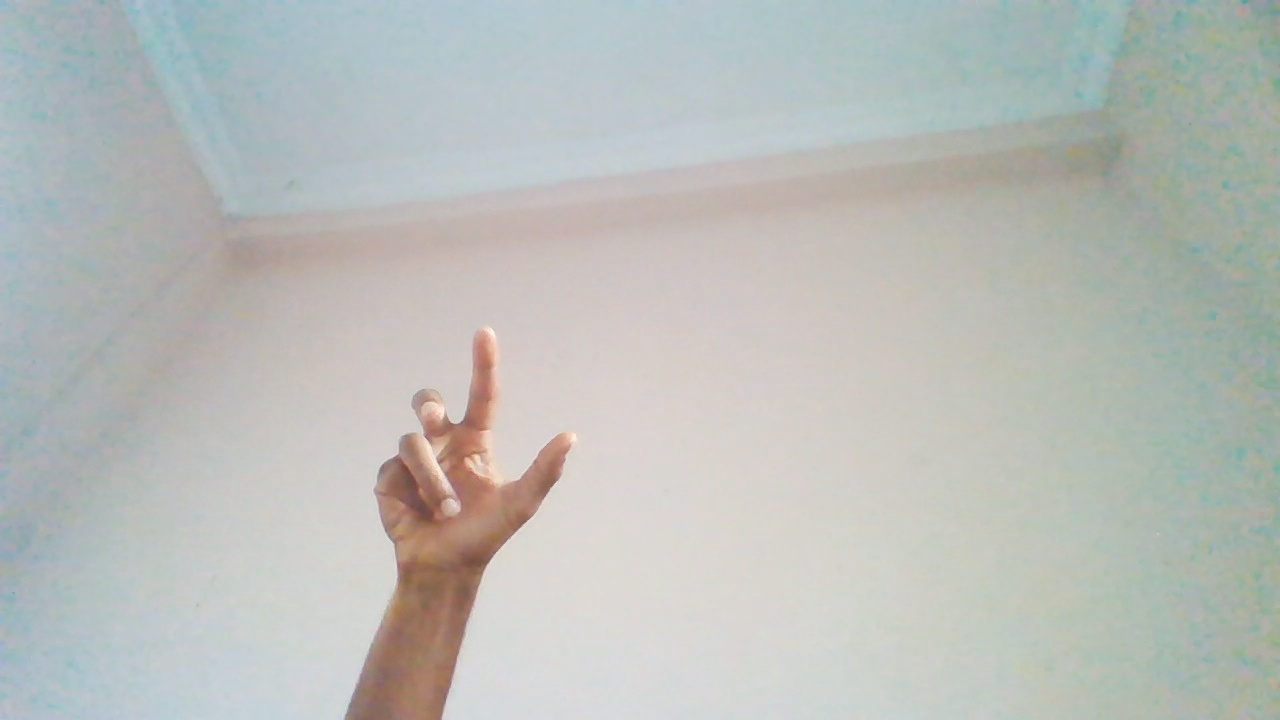hhe: (368, 328, 578, 681)
